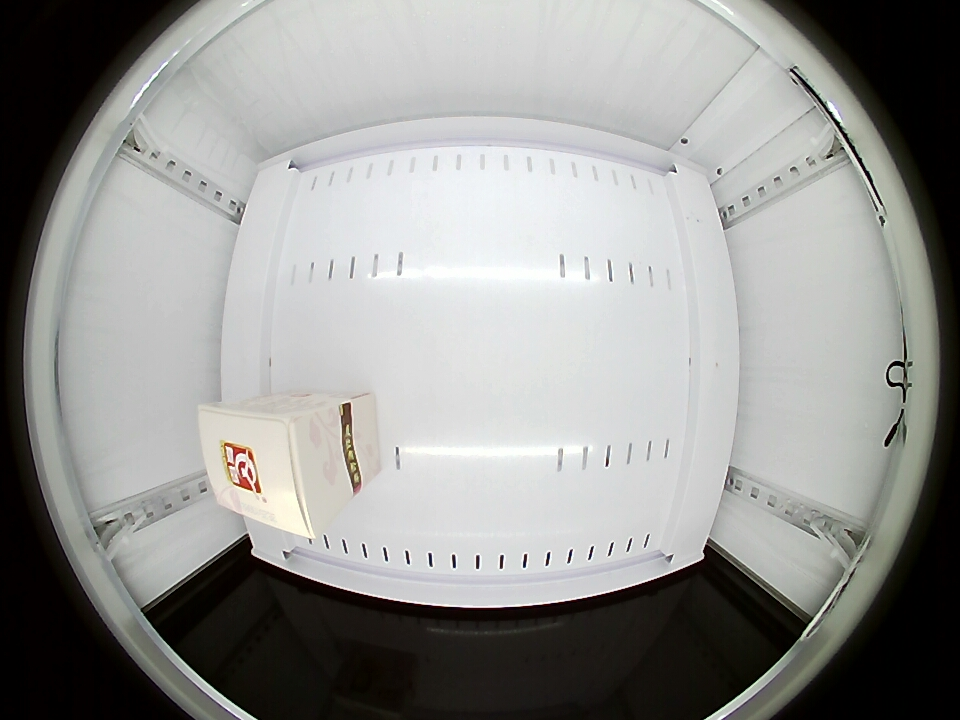rousongbing: (198, 397, 350, 538)
